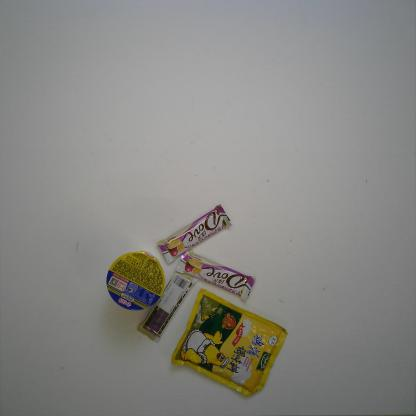Chocolate: (137, 267, 199, 343), (156, 203, 233, 264), (175, 250, 256, 300)
Instant Noodles: (106, 250, 166, 311)
Seasoner: (171, 288, 288, 396)
